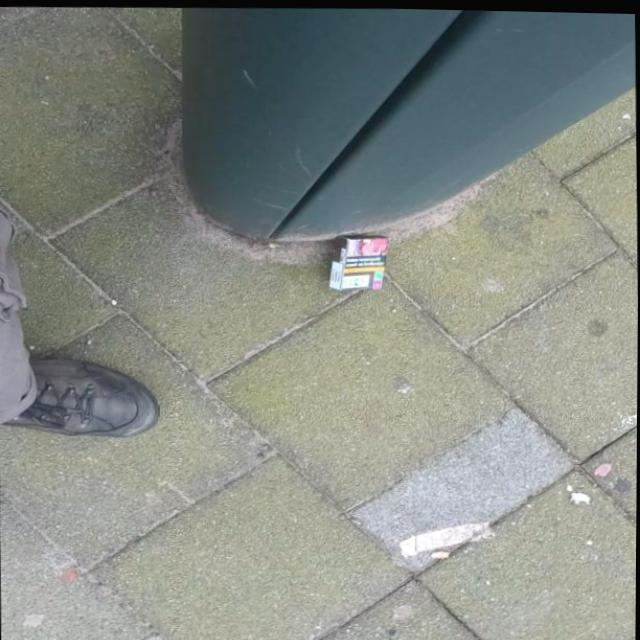Paper: (326, 231, 395, 287)
